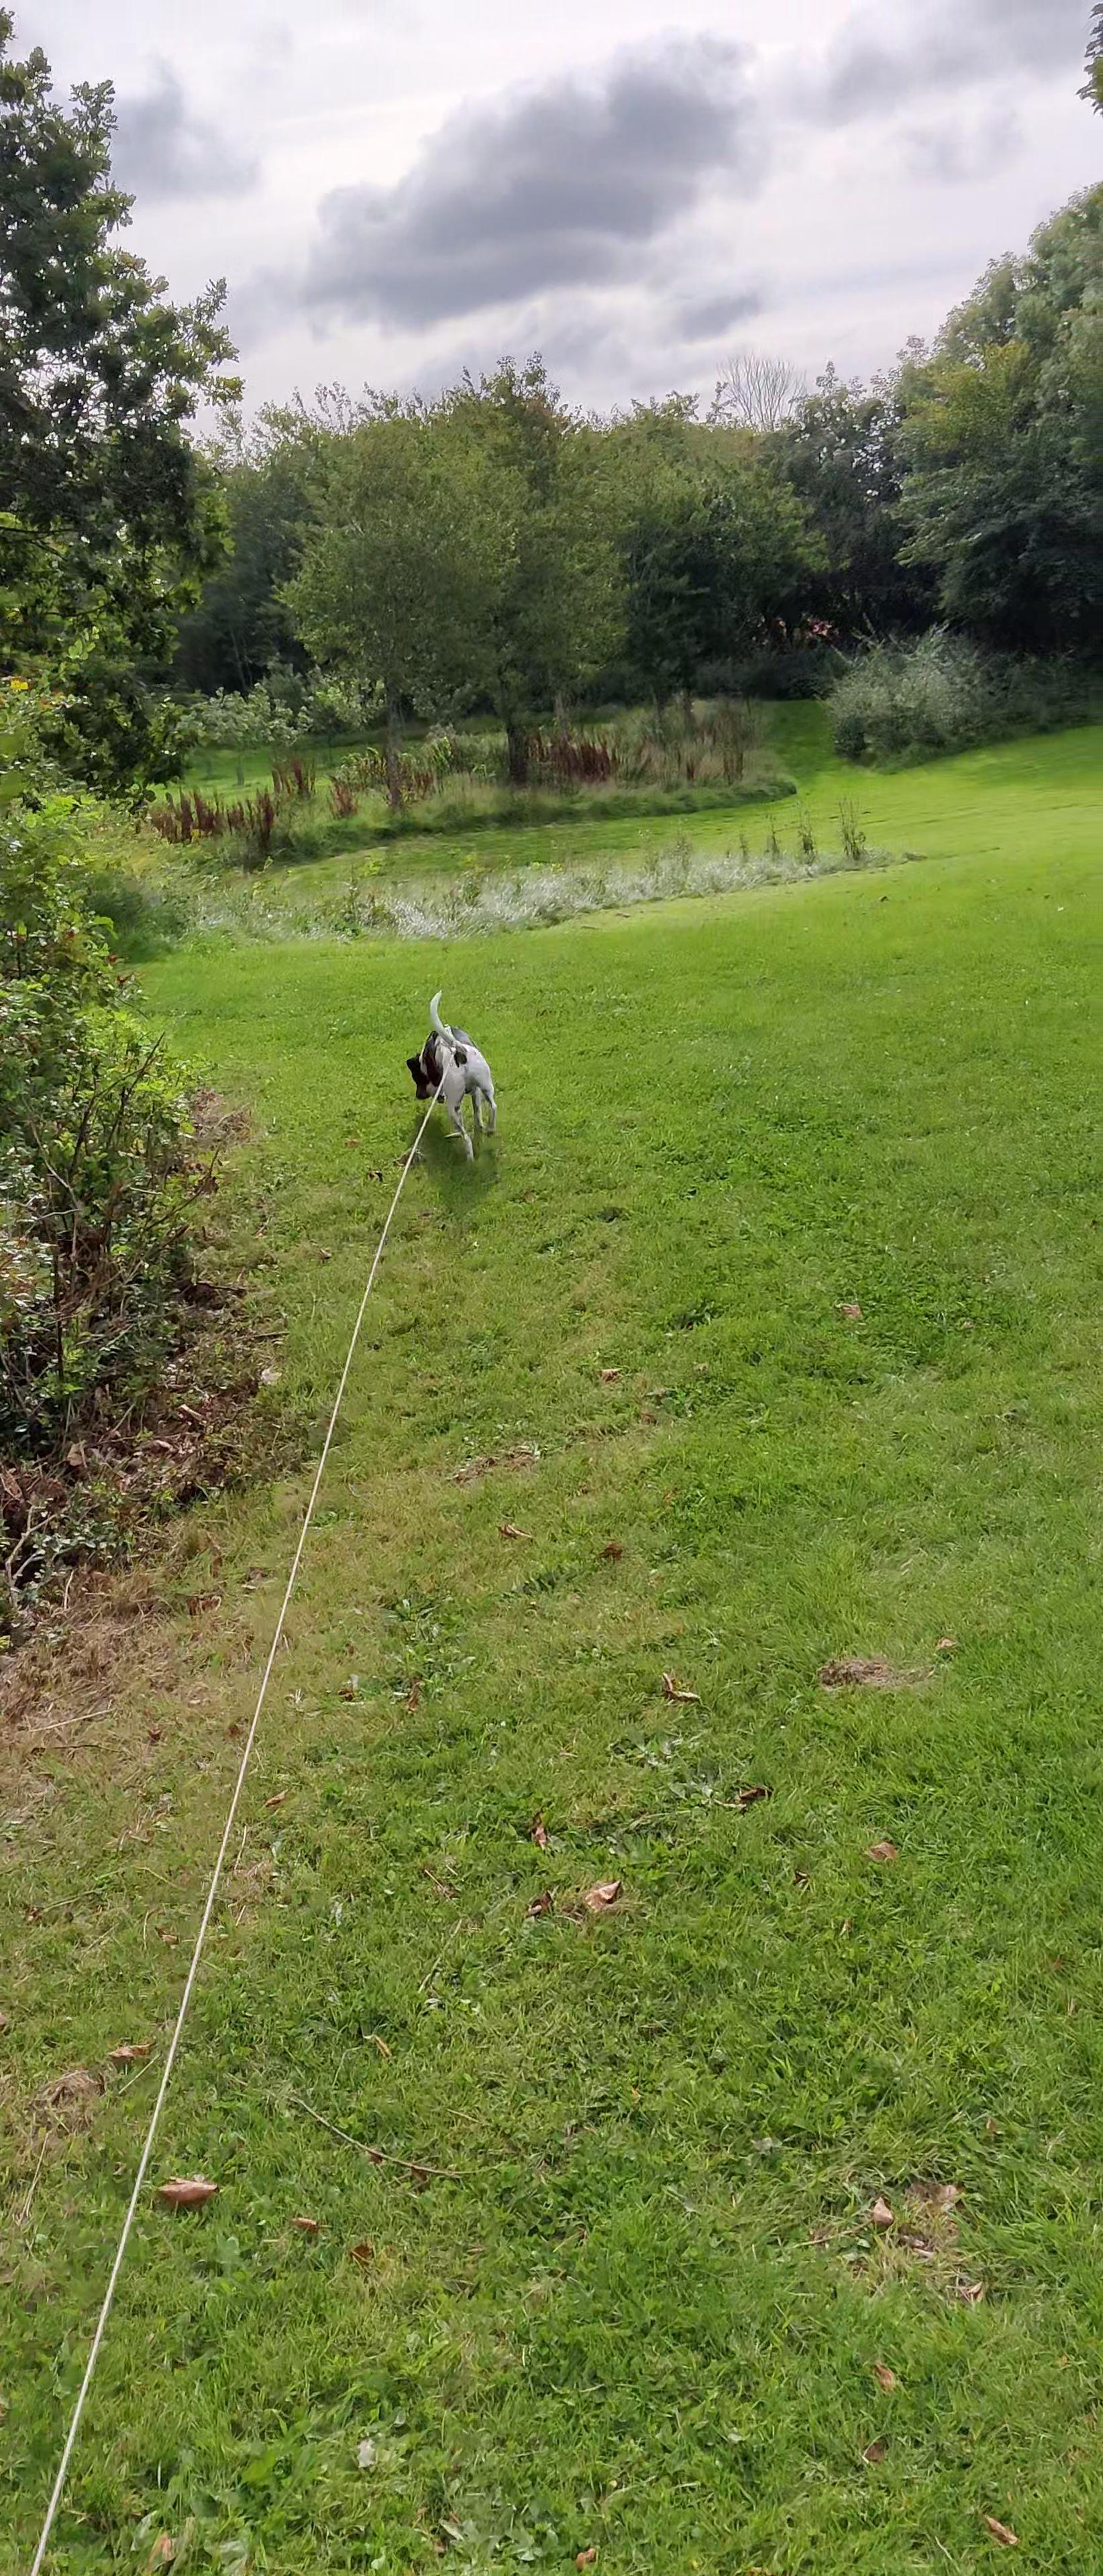Dog: (398, 981, 500, 1175)
